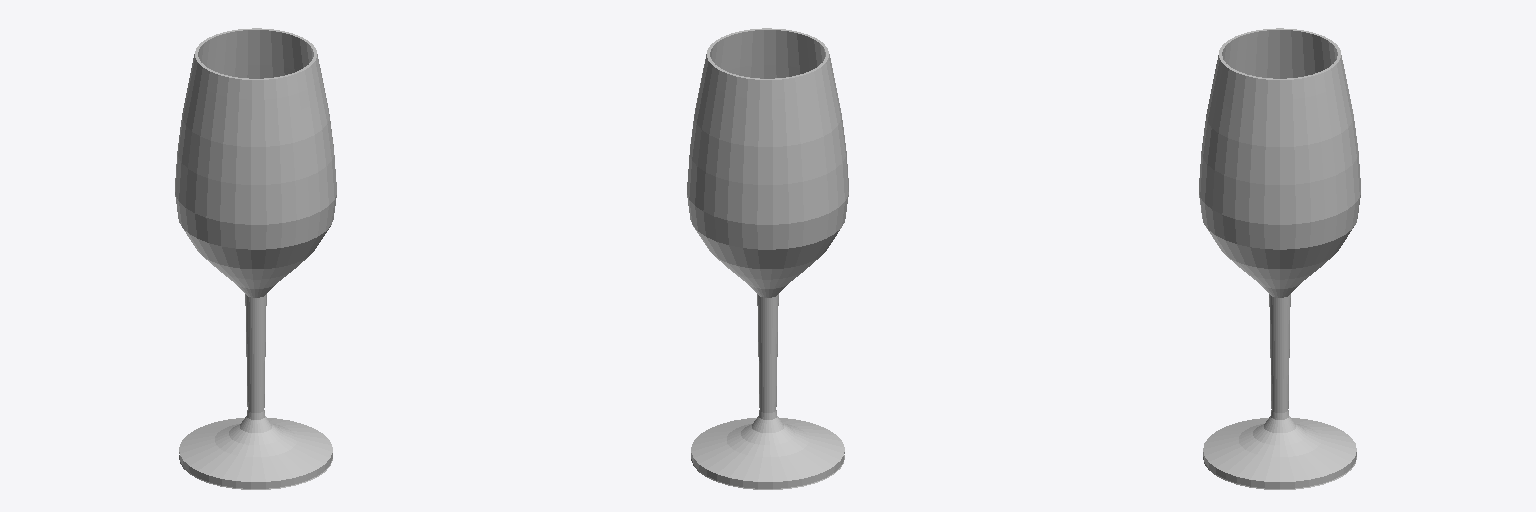
File: glass.obj
The picture shows the model from 3 angles: view 1: azimuth 30°, elevation 25°; view 2: azimuth 150°, elevation 25°; view 3: azimuth 270°, elevation 25°; orthographic projection.
Visible parts, largest first — view 1: Circle; view 2: Circle; view 3: Circle.
Boxes of the visible parts, x1=… form: Circle: x1=175, y1=28, x2=336, y2=489; Circle: x1=687, y1=28, x2=848, y2=489; Circle: x1=1199, y1=28, x2=1360, y2=489.
Size of the model in its own units: 3.65 by 9.98 by 3.65.